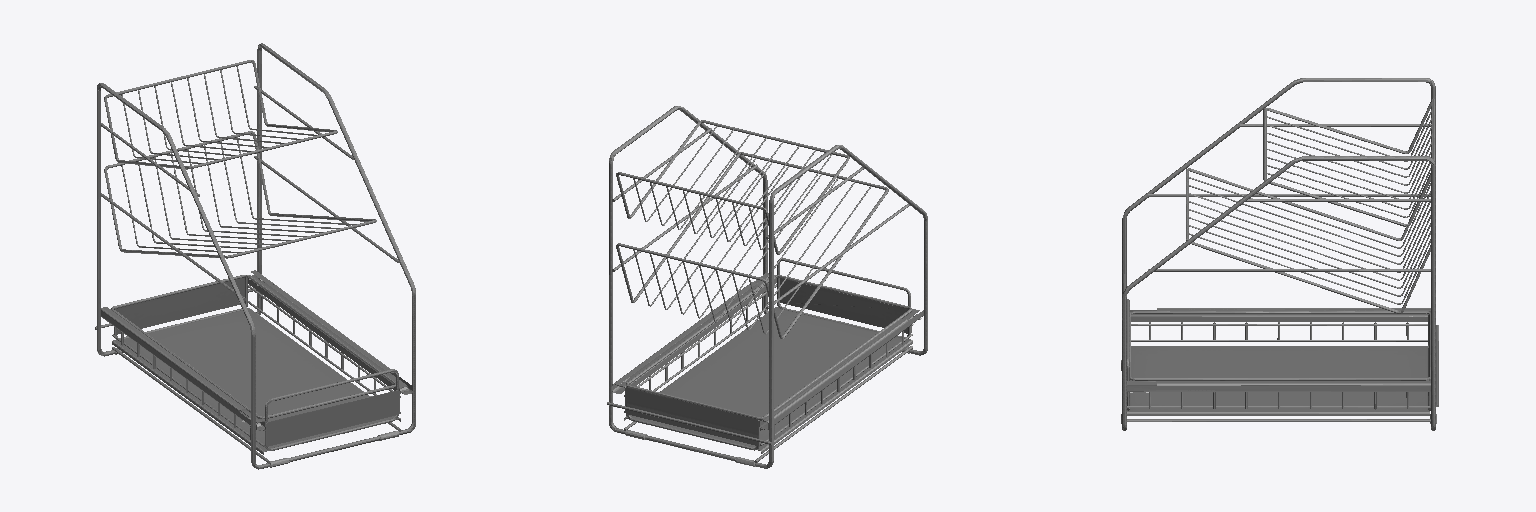
The picture shows the model from 3 angles: view 1: azimuth 30°, elevation 25°; view 2: azimuth 150°, elevation 25°; view 3: azimuth 270°, elevation 25°; orthographic projection.
Visible parts, largest first — view 1: solid_002; view 2: solid_002; view 3: solid_002.
Part boxes in pixels (x1,y1,x2,y2): solid_002: (95, 43, 415, 469); solid_002: (607, 106, 927, 468); solid_002: (1122, 78, 1438, 430).
Bounding box in the file's own units: 0.2464 × 0.3972 × 0.411.
1 materials, 1 textured.